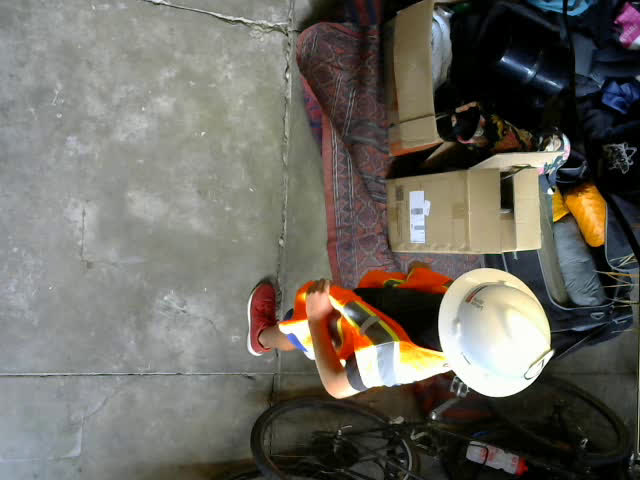one: (523, 349, 554, 380)
